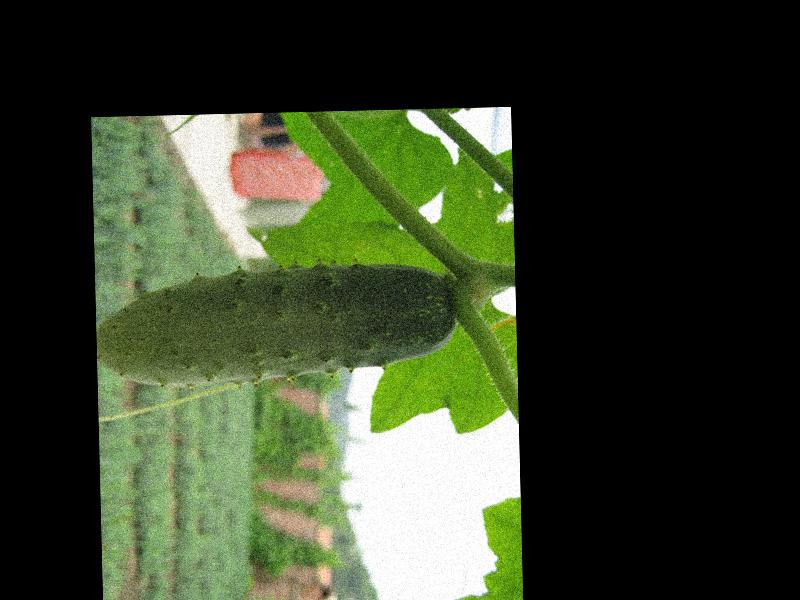Cucumber: (95, 262, 456, 386)
